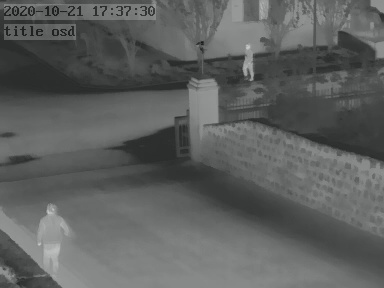person: (37, 197, 68, 278), (243, 41, 255, 76)
